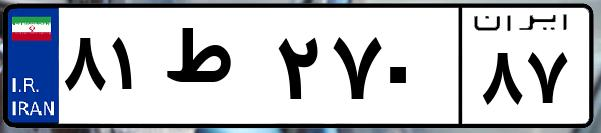0: (385, 28, 445, 110)
1: (110, 28, 158, 98)
2: (270, 28, 330, 110)
7: (330, 28, 385, 110), (525, 38, 570, 115)
8: (57, 26, 110, 100), (475, 38, 525, 113)
ط: (158, 20, 270, 120)
